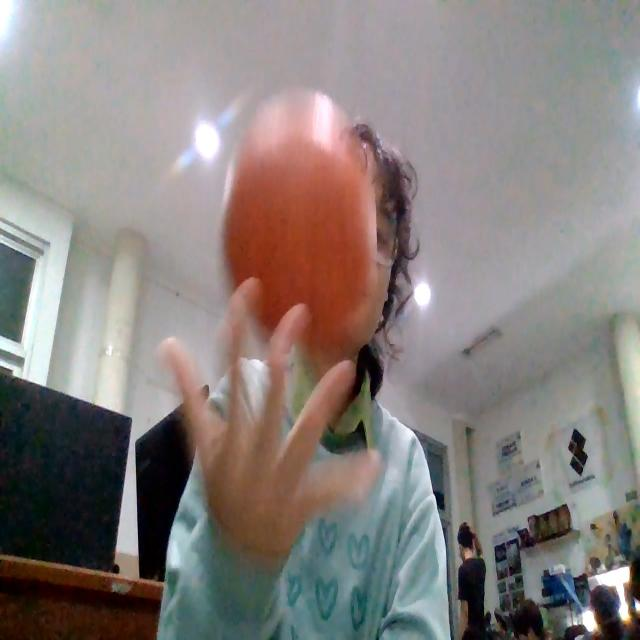ball: (225, 126, 378, 345)
